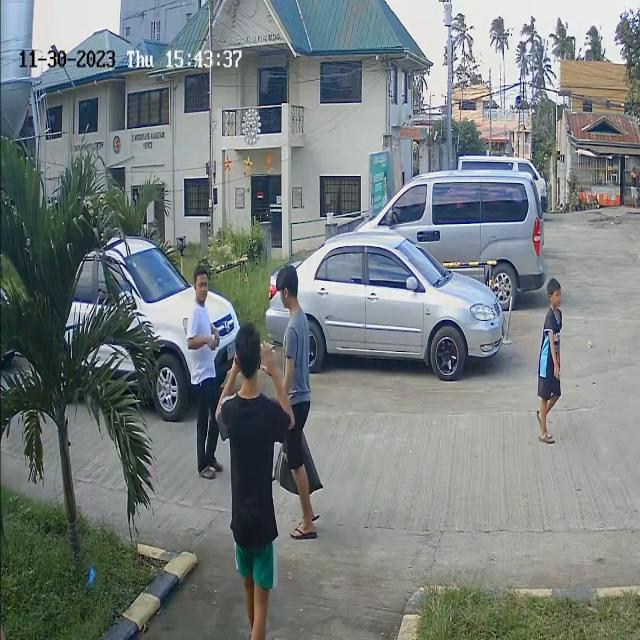person: (270, 266, 313, 378), (536, 276, 566, 396), (185, 266, 221, 356)
